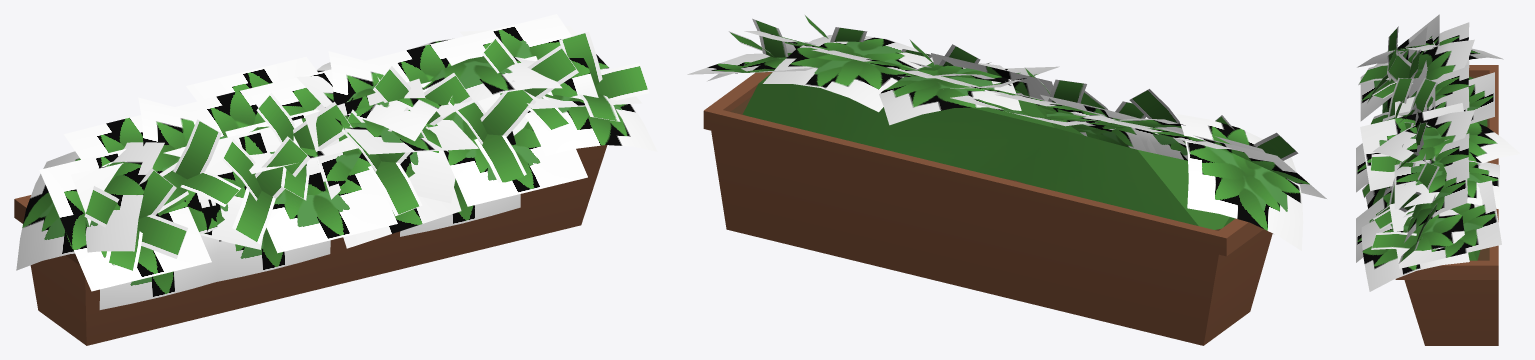
The model's file is FlowerPot_04.glb.
3 renders of one model, left to right at view 1: azimuth 30°, elevation 25°; view 2: azimuth 150°, elevation 25°; view 3: azimuth 270°, elevation 25°, orthographic. The views are drawn at different scales.
Visible parts, largest first — view 1: FlowerPot_04_LOD0; view 2: FlowerPot_04_LOD0; view 3: FlowerPot_04_LOD0.
Boxes of the visible parts, x1,y1,x2,y2 form: FlowerPot_04_LOD0: (14,14,657,345); FlowerPot_04_LOD0: (687,14,1326,345); FlowerPot_04_LOD0: (1356,14,1520,345).
Size of what is drawn, in the model's own units: 1.23 by 0.3926 by 0.3793.
2 materials, 2 textured.
